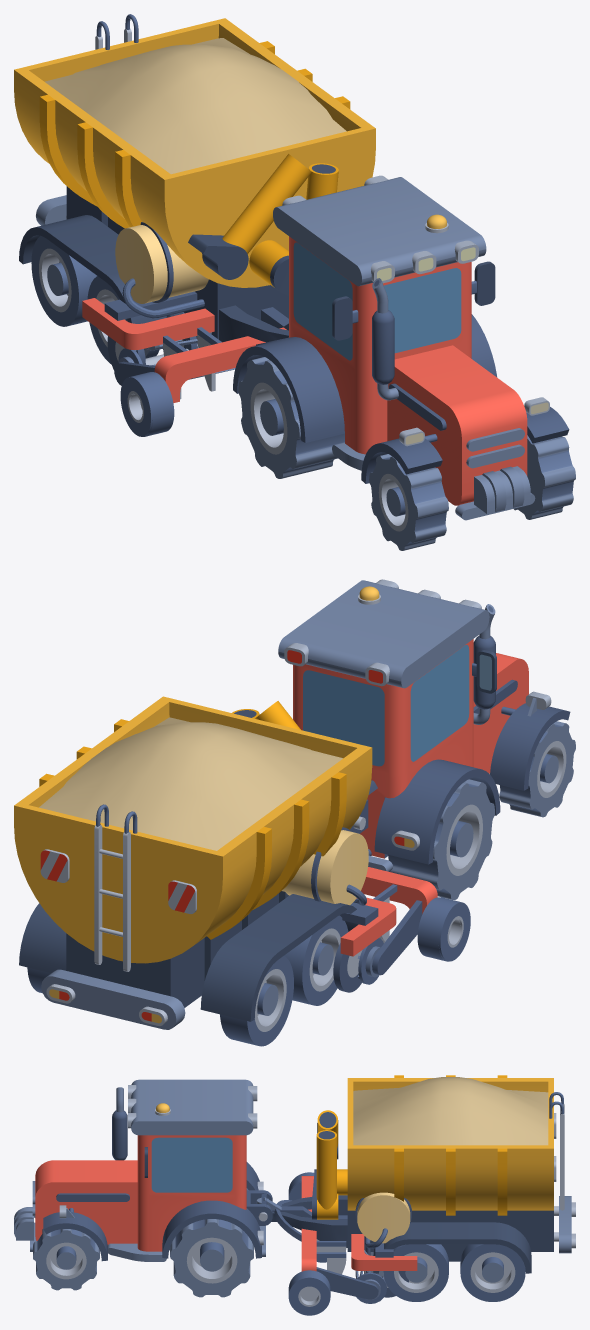
Rendered from Tractor.fbx.
3 renders of one model, top to bottom at view 1: azimuth 30°, elevation 25°; view 2: azimuth 150°, elevation 25°; view 3: azimuth 270°, elevation 25°, orthographic. The views are drawn at different scales.
Parts seen in each view (by area): view 1: Tractor, Bunker Trolley, Corn Hill, Tractor trailer 02, Tractor Wheel back, Tractor Wheel front right, Tractor trailer 03, Trolley wheel 01, Tractor Wheel front left, Tractor trailer 01, Trolley wheel 02; view 2: Bunker Trolley, Tractor, Corn Hill, Tractor trailer 02, Tractor Wheel back, Tractor trailer 03, Tractor Wheel front right, Trolley wheel 01, Trolley wheel 02, Tractor trailer 01, Tractor trailer 003; view 3: Tractor, Bunker Trolley, Corn Hill, Tractor Wheel back, Tractor trailer 02, Tractor trailer 03, Tractor Wheel front left, Trolley wheel 01, Trolley wheel 02, Tractor trailer 01, Tractor trailer 003.
Boxes of the visible parts, x1,y1,x2,y2 form: Tractor: [233, 175, 569, 520]; Bunker Trolley: [14, 14, 375, 342]; Corn Hill: [45, 38, 346, 174]; Tractor trailer 02: [82, 222, 288, 370]; Tractor Wheel back: [238, 357, 344, 478]; Tractor Wheel front right: [369, 454, 448, 550]; Tractor trailer 03: [114, 327, 288, 436]; Trolley wheel 01: [31, 235, 96, 326]; Tractor Wheel front left: [514, 435, 575, 519]; Tractor trailer 01: [131, 327, 235, 436]; Trolley wheel 02: [87, 276, 159, 364]; Bunker Trolley: [14, 696, 377, 1029]; Tractor: [278, 579, 570, 871]; Corn Hill: [39, 717, 342, 850]; Tractor trailer 02: [282, 827, 396, 992]; Tractor Wheel back: [388, 779, 494, 899]; Tractor trailer 03: [366, 867, 470, 975]; Tractor Wheel front right: [499, 721, 575, 817]; Trolley wheel 01: [27, 956, 293, 1046]; Trolley wheel 02: [284, 915, 348, 1005]; Tractor trailer 01: [361, 877, 460, 961]; Tractor trailer 003: [357, 938, 383, 984]; Tractor: [14, 1079, 272, 1261]; Bunker Trolley: [256, 1075, 575, 1273]; Corn Hill: [353, 1077, 548, 1145]; Tractor Wheel back: [170, 1188, 253, 1297]; Tractor trailer 02: [262, 1192, 417, 1297]; Tractor trailer 03: [261, 1172, 378, 1315]; Tractor Wheel front left: [33, 1229, 99, 1290]; Trolley wheel 01: [460, 1244, 525, 1301]; Trolley wheel 02: [383, 1244, 448, 1301]; Tractor trailer 01: [264, 1181, 346, 1288]; Tractor trailer 003: [355, 1270, 386, 1303].
Size of the model in its own units: 5.14 by 4.13 by 11.59.
